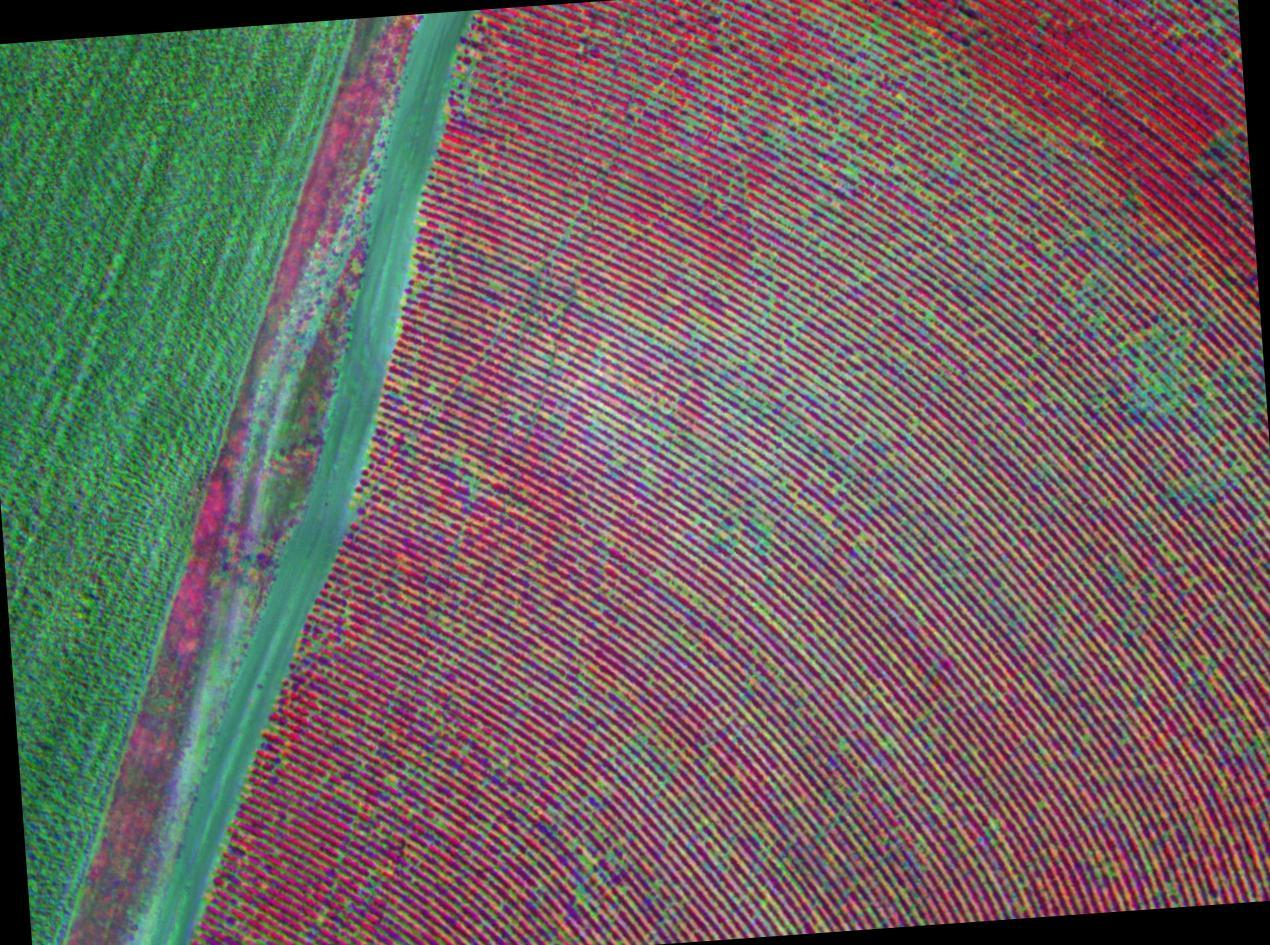dc: (401, 380, 405, 386), (455, 459, 459, 464), (580, 857, 585, 861), (472, 480, 476, 484), (633, 743, 637, 747), (574, 639, 577, 643), (202, 902, 205, 906)
